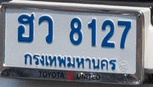txt32: (37, 14, 54, 44)
txt39: (16, 12, 35, 43)
